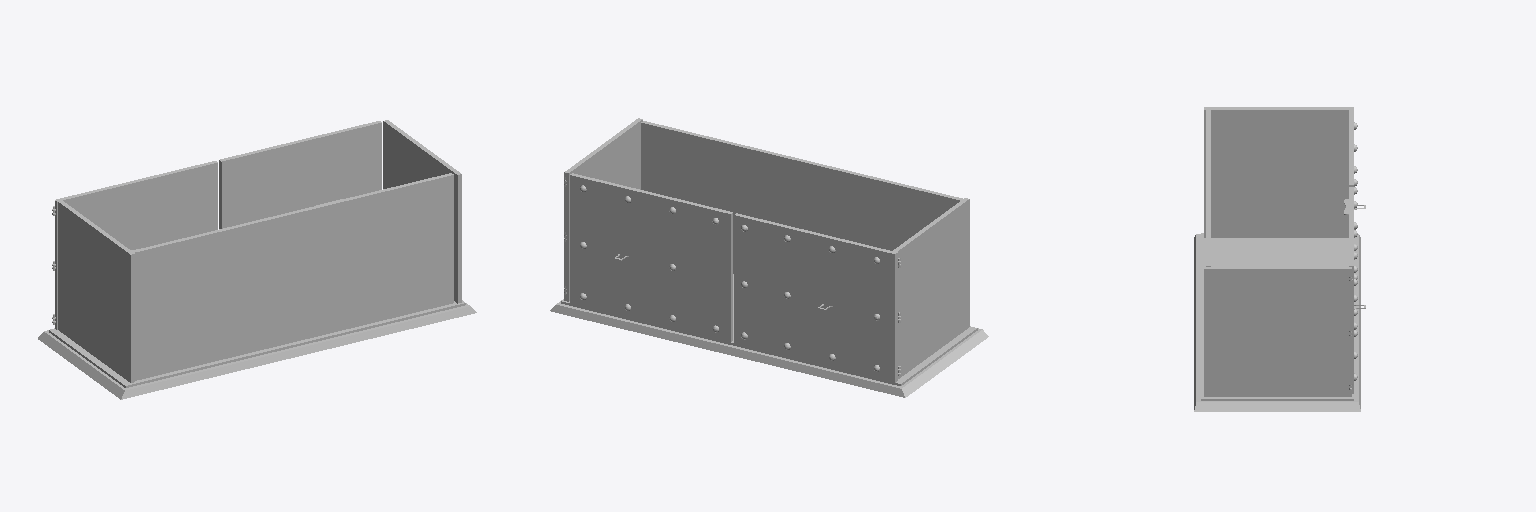
Rendered from treasure.obj.
The picture shows the model from 3 angles: view 1: azimuth 30°, elevation 25°; view 2: azimuth 150°, elevation 25°; view 3: azimuth 270°, elevation 25°; orthographic projection.
Size of the model in its own units: 1.58 by 0.585 by 0.6613.